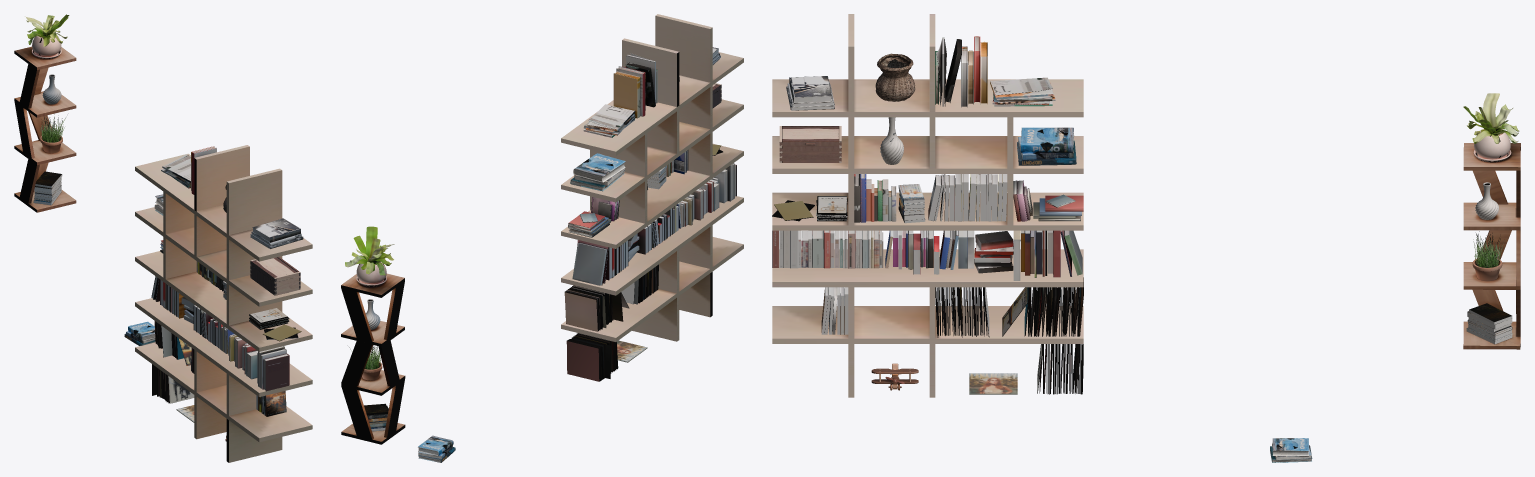
Rendered from LightOffice4th.glb.
The picture shows the model from 3 angles, left to right: view 1: azimuth 30°, elevation 25°; view 2: azimuth 150°, elevation 25°; view 3: azimuth 270°, elevation 25°; orthographic projection. The views are drawn at different scales.
Parts seen in each view (by area): view 1: Shelves_Baked, CornerShelf_Baked, Asplenium Nidu Pot_Baked, Stack of books.002_Baked, ChivePlant_Baked.001; view 2: Shelves_Baked, CornerShelf_Baked, Stack of books.002_Baked, Asplenium Nidu Pot_Baked, ChivePlant_Baked.001; view 3: Shelves_Baked, CornerShelf_Baked, Stack of books.002_Baked, Asplenium Nidu Pot_Baked, ChivePlant_Baked.001.
Part boxes in pixels (x1,y1,x2,y2): Shelves_Baked: (33,74,312,462); CornerShelf_Baked: (14,46,76,212); Asplenium Nidu Pot_Baked: (25,14,69,59); Stack of books.002_Baked: (124,194,163,345); ChivePlant_Baked.001: (40,114,65,153); Shelves_Baked: (364,14,743,431); CornerShelf_Baked: (341,273,405,444); Stack of books.002_Baked: (418,153,625,462); Asplenium Nidu Pot_Baked: (345,226,394,286); ChivePlant_Baked.001: (349,345,382,380); Shelves_Baked: (772,14,1512,397); CornerShelf_Baked: (1463,143,1520,349); Stack of books.002_Baked: (1017,127,1312,462); Asplenium Nidu Pot_Baked: (1463,93,1519,162); ChivePlant_Baked.001: (1472,231,1504,280).
Size of the model in its own units: 0.8121 by 2.28 by 4.02.
Materials: 25 (25 with a texture image).
